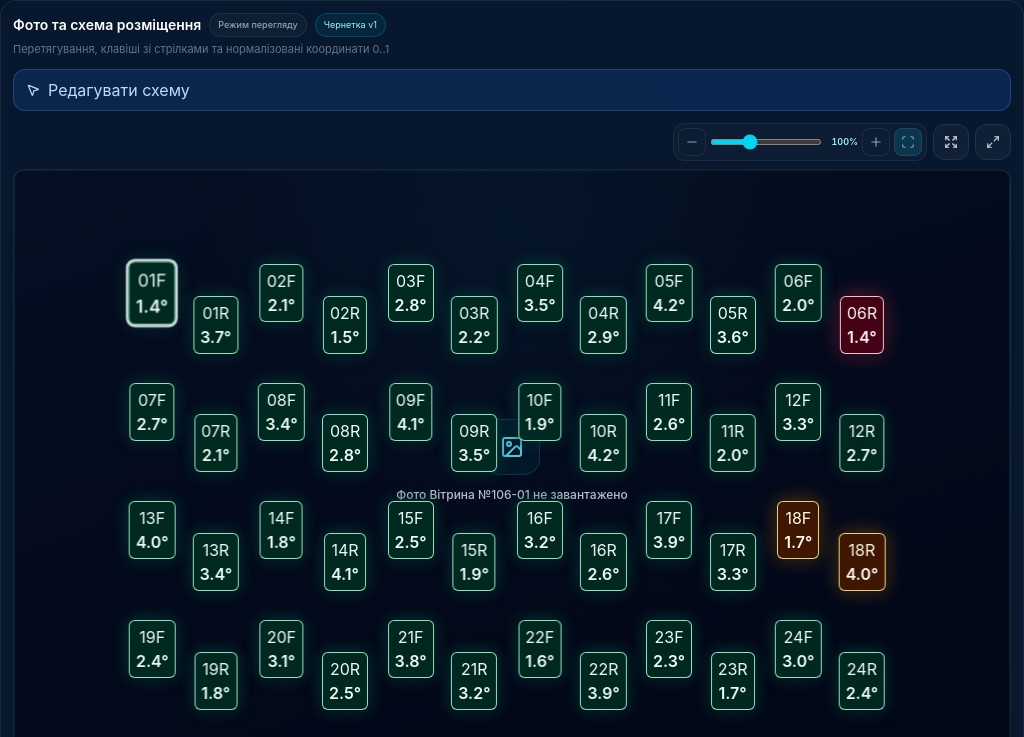
Test: RefrigerationLayoutEditor › preserves local changes when a stale draft save returns a version conflict
This screenshot has width=1024, height=737.
Click the button "Редагувати схему": (119, 90) 13,69 -> 1011,111
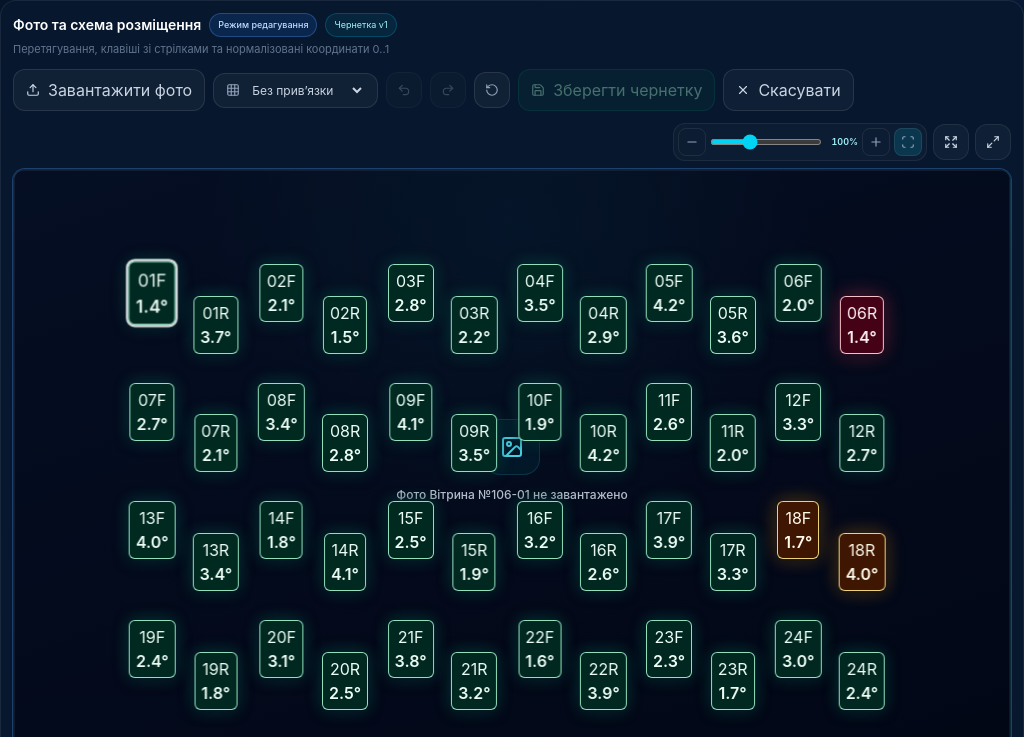
Press ArrowRight in the button "01F 1.4°", box 128,261 -> 176,325
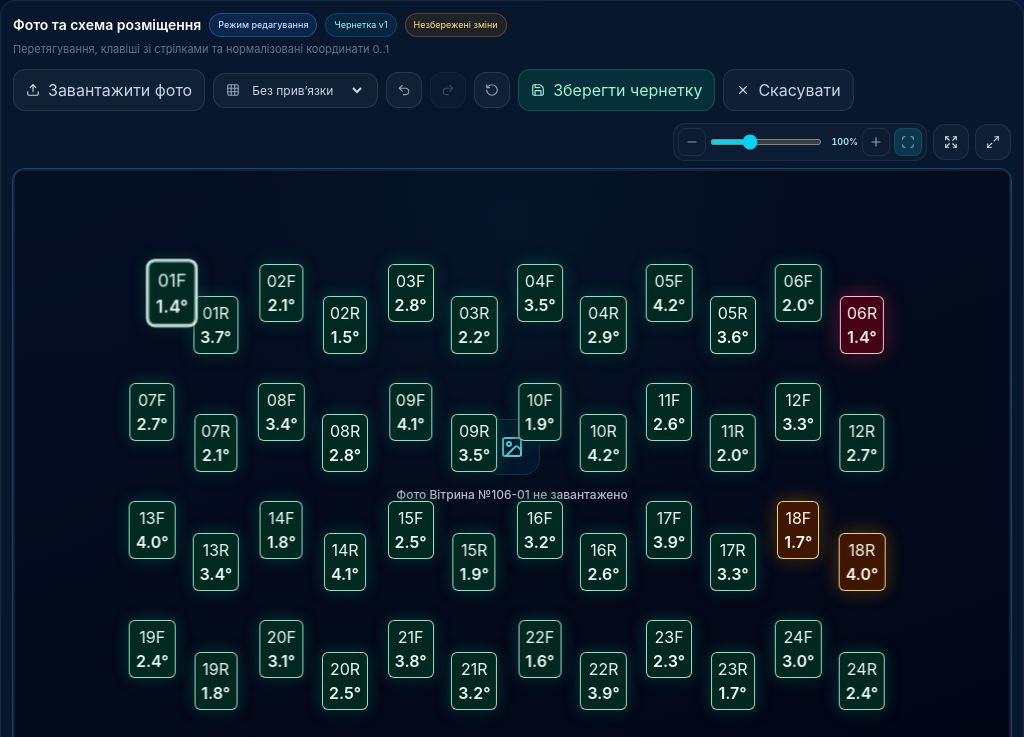
Click the button "Зберегти чернетку": (617, 90) 518,69 -> 715,111
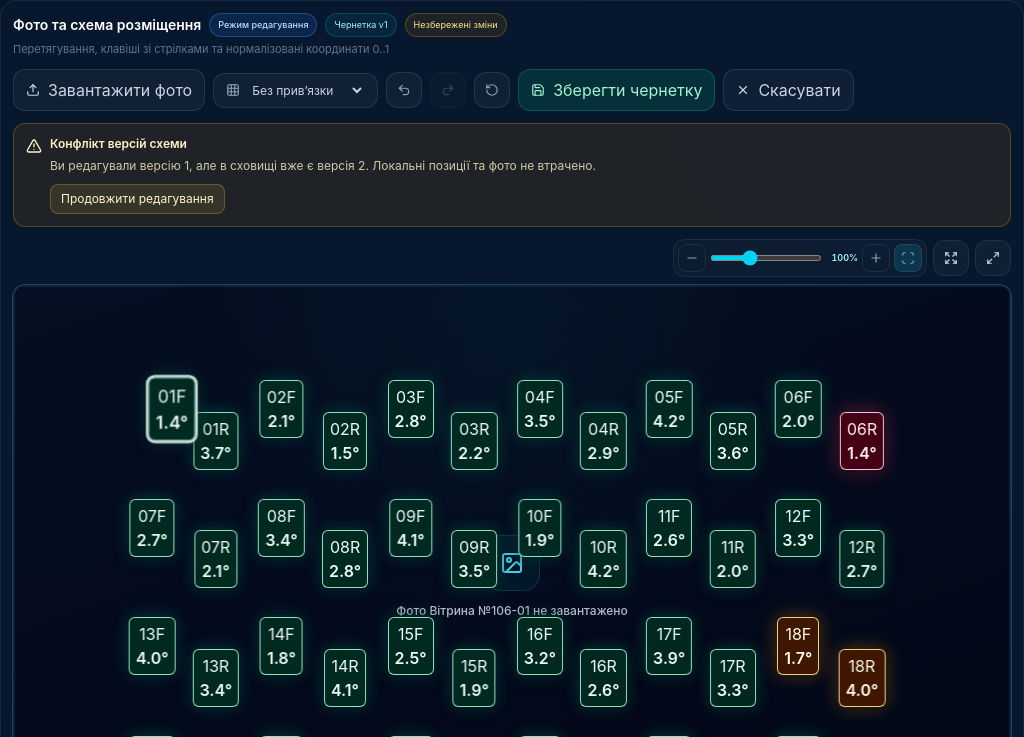
Now the text "Режим редагування" is shown, box 209,13 -> 317,36
Now the text "Конфлікт версій схеми" is shown, box 50,136 -> 187,151
Now the text "Локальні позиції та фото не втрачено" is shown, box 365,158 -> 596,173
